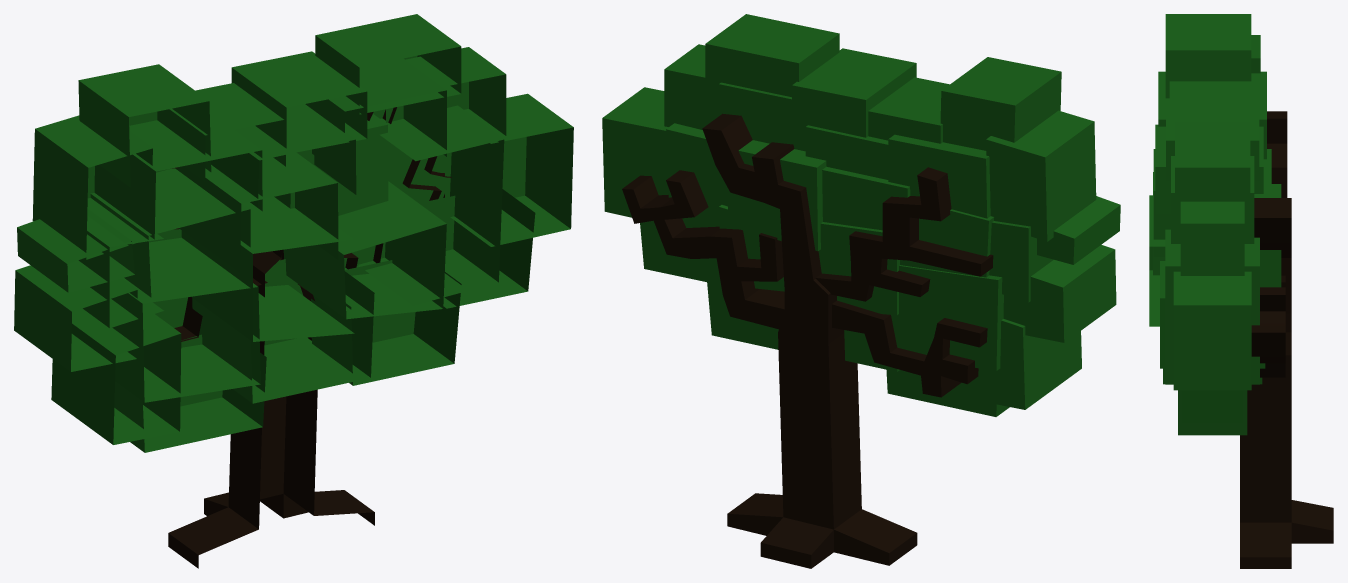
File: Tree_001.FBX
3 renders of one model, left to right at view 1: azimuth 30°, elevation 25°; view 2: azimuth 150°, elevation 25°; view 3: azimuth 270°, elevation 25°, orthographic. The views are drawn at different scales.
Visible parts, largest first — view 1: Tree001; view 2: Tree001; view 3: Tree001.
Part boxes in pixels (x1,y1,x2,y2): Tree001: (14,14,573,568); Tree001: (602,14,1120,568); Tree001: (1149,14,1333,568).
Bounding box in the file's own units: 671 × 640 × 246.
